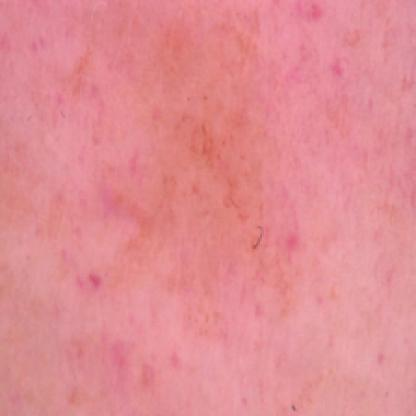benign: (74, 30, 342, 364)
